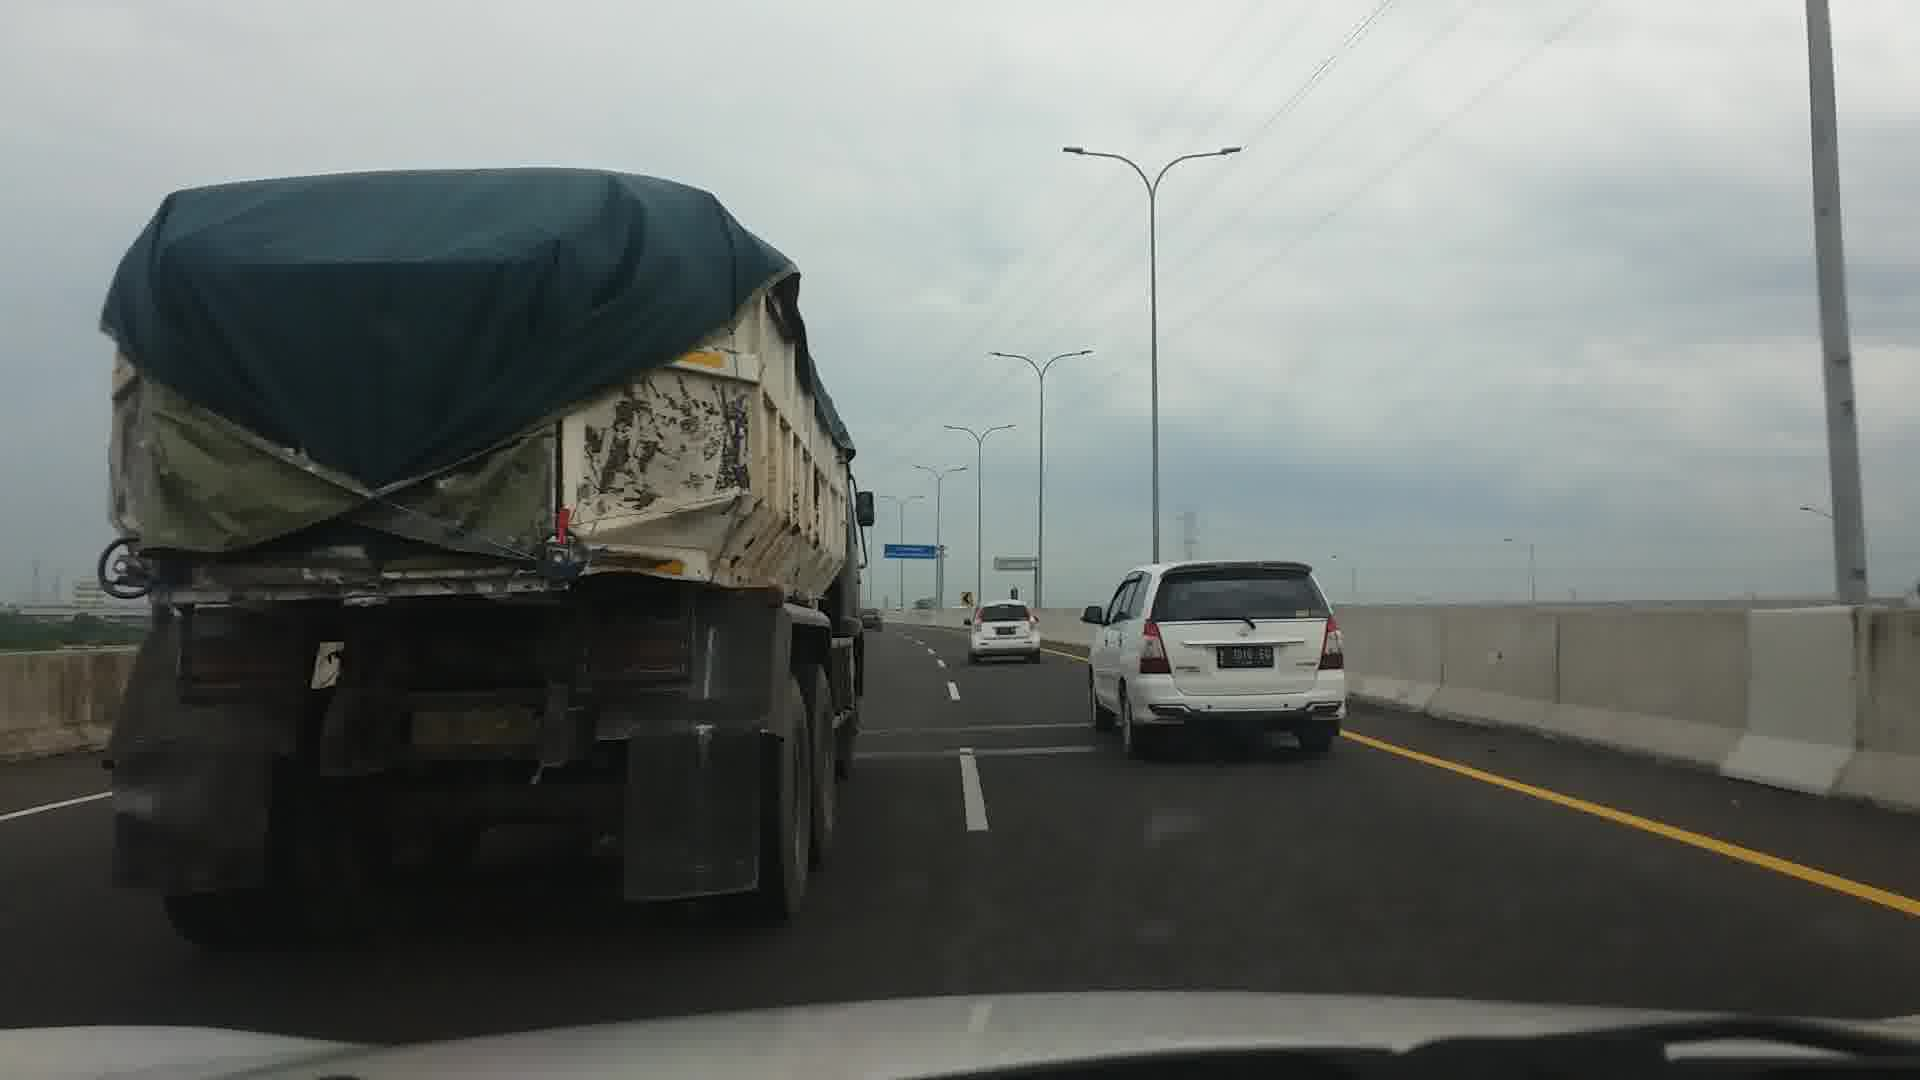plate_positive: (1218, 646, 1274, 669), (996, 626, 1015, 636)
